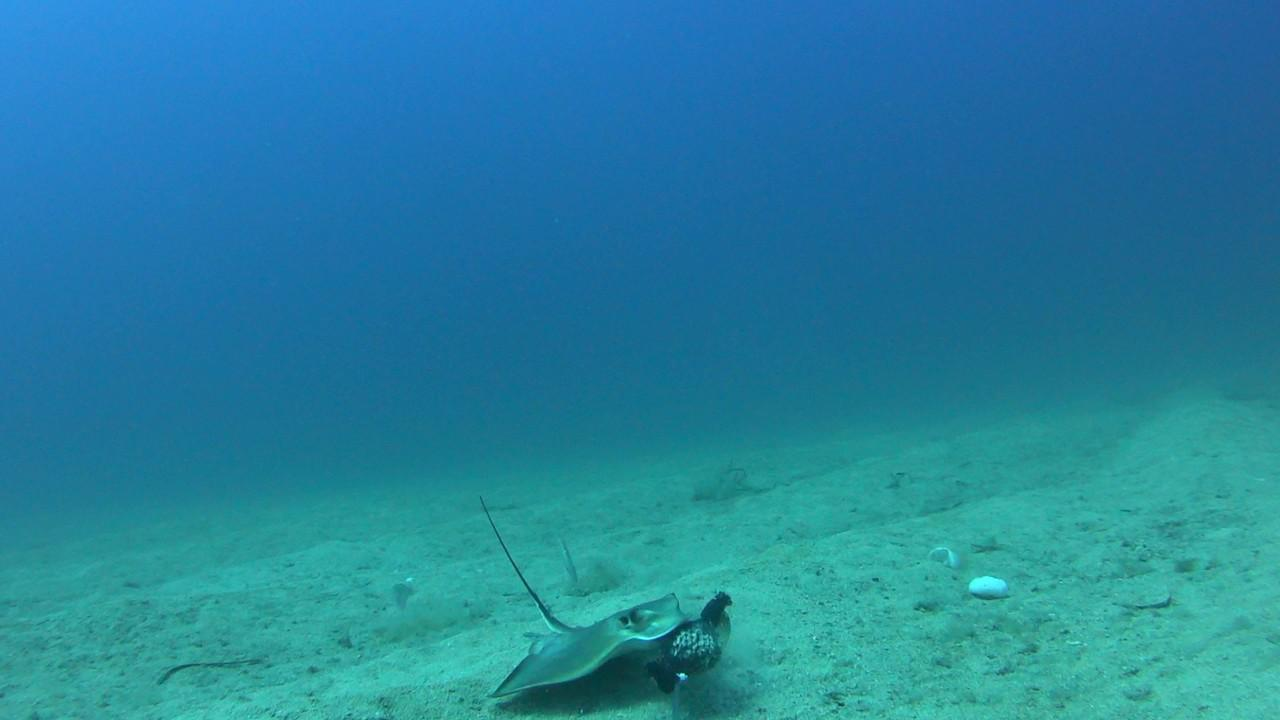myliobatis: (449, 483, 765, 688)
